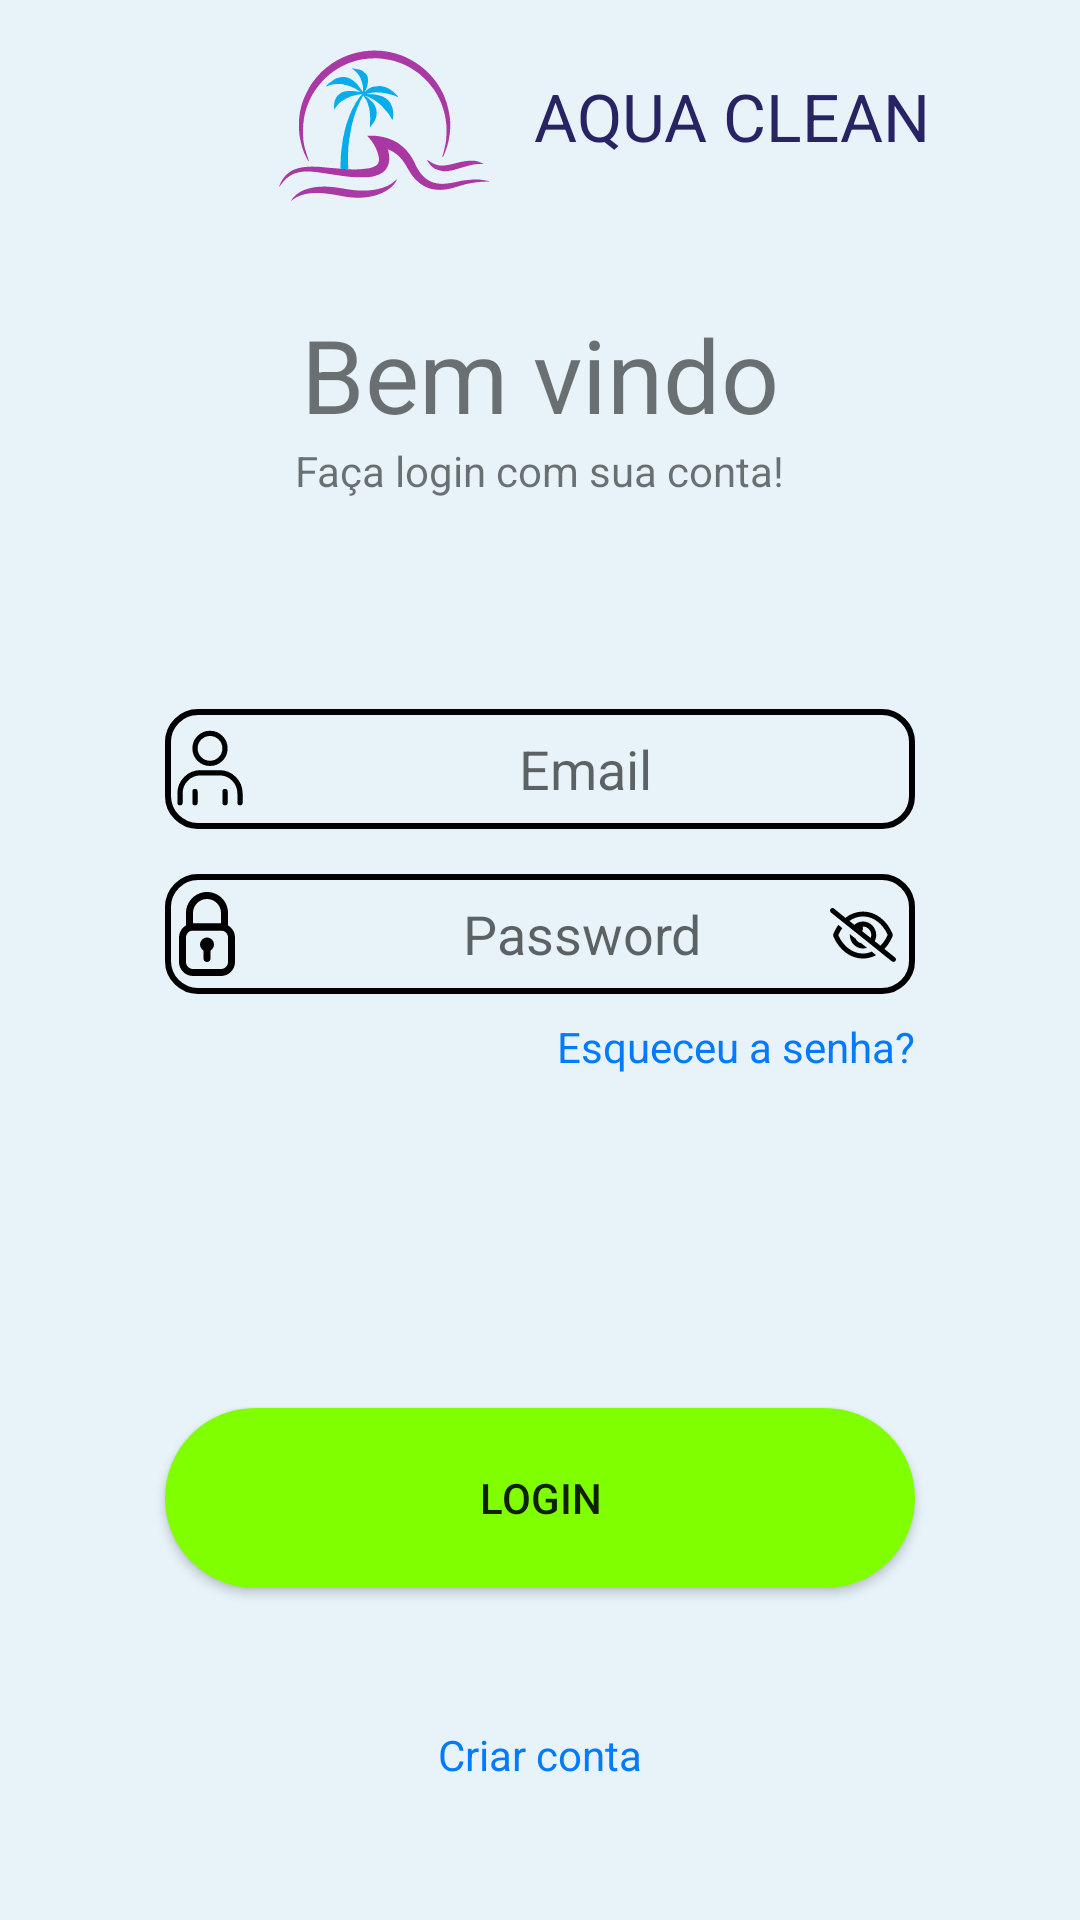

Named icons in this screenshot (1080×1920) and their centers, [x,y]:
olho fechado: [863,935]
